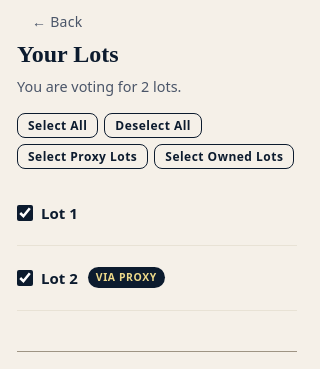
VotingPage › Select Proxy Lots button only shown when there is a proxy lot and selects only proxy lots
The width and height of the screenshot is (320, 369).
// Click it — only lo2 (proxy) should be selected
What coordinates should you click on to do the following:
click the button with aria-label "Select proxy lots only"
I would click on:
 (83, 156)
Its box is [17, 144, 148, 169].
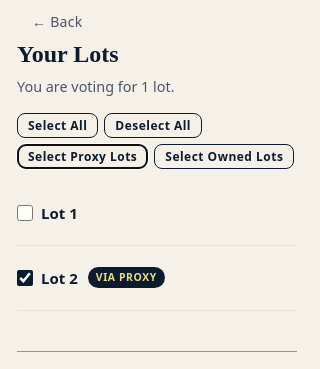
Expected: the checkbox in the row of "via Proxy" is checked, [17, 270, 33, 286]
Expected: the 1st checkbox is not checked, [17, 205, 33, 221]
